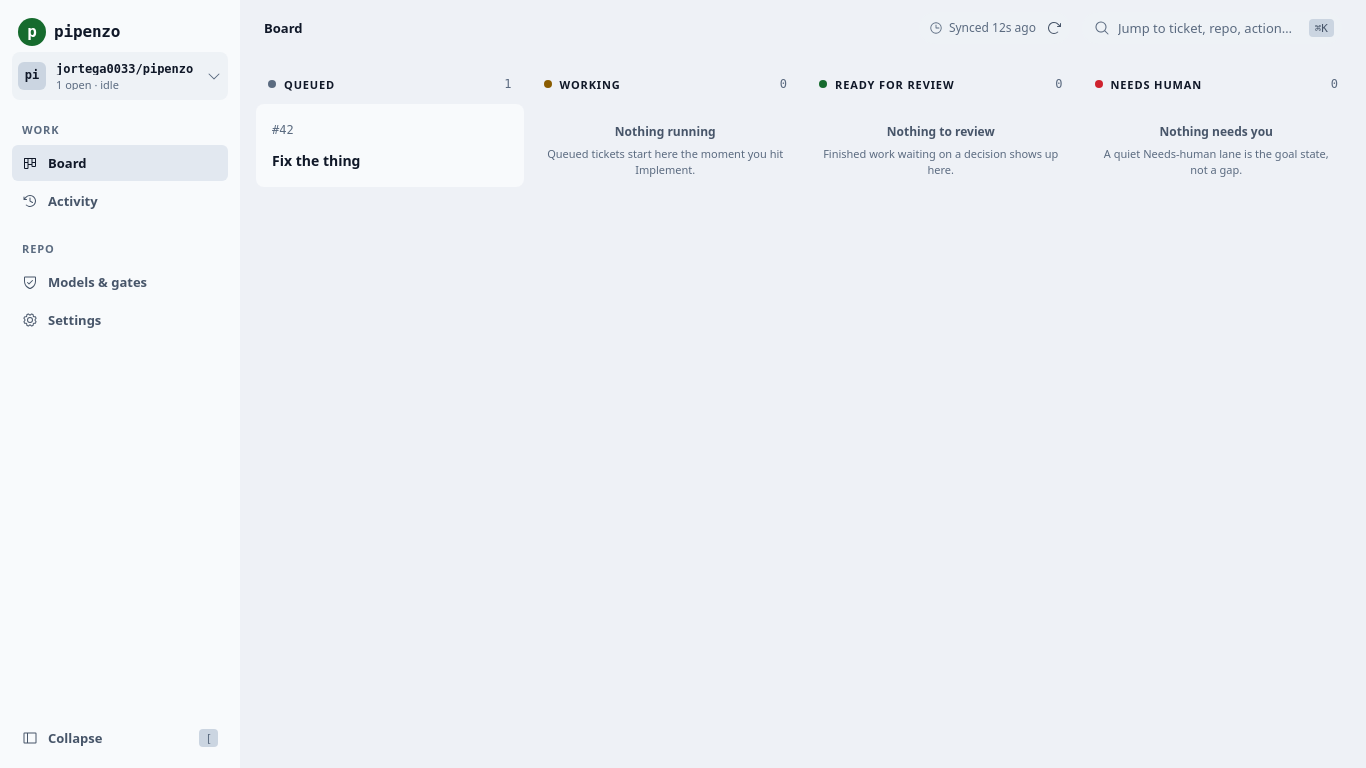
Test: PipenzoAppShell › closes the dialog on Cancel without starting anything
The width and height of the screenshot is (1366, 768).
Step 1. Click the button "#42 Fix the thing" → (316, 160), box top-left (256, 104), bottom-right (524, 187)
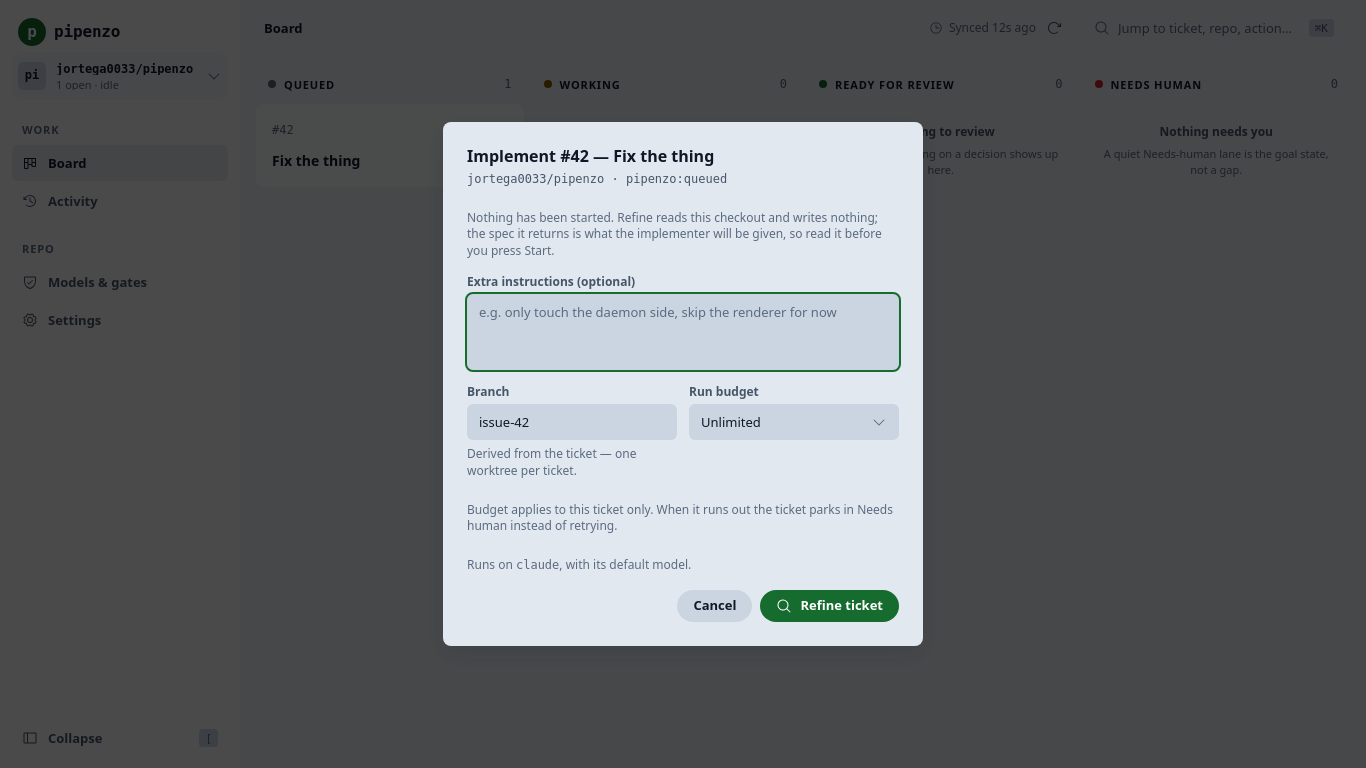
Expected: the button "Refine ticket" is shown, top-left (760, 590), bottom-right (899, 622)
Step 2. Click the button "Cancel" → (715, 606), box top-left (677, 590), bottom-right (752, 622)
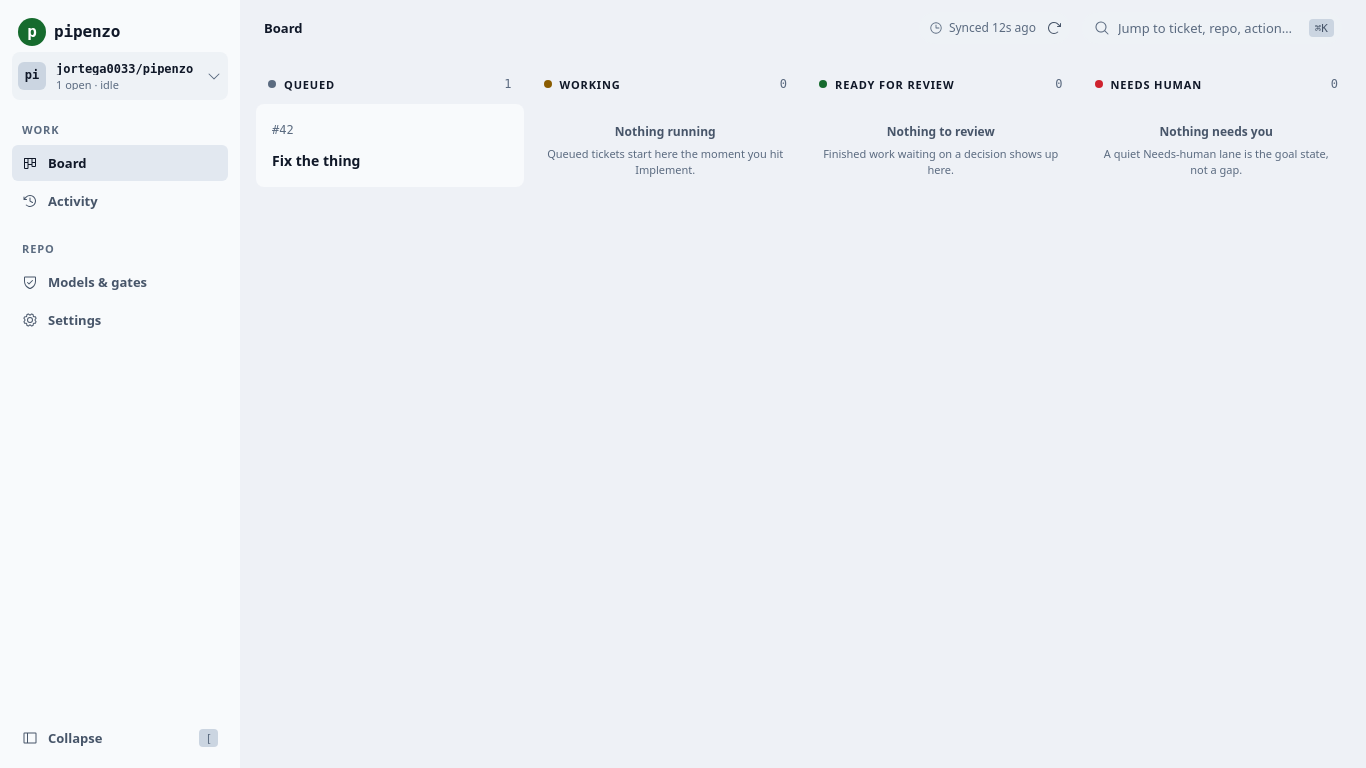
Expected: the dialog is gone
